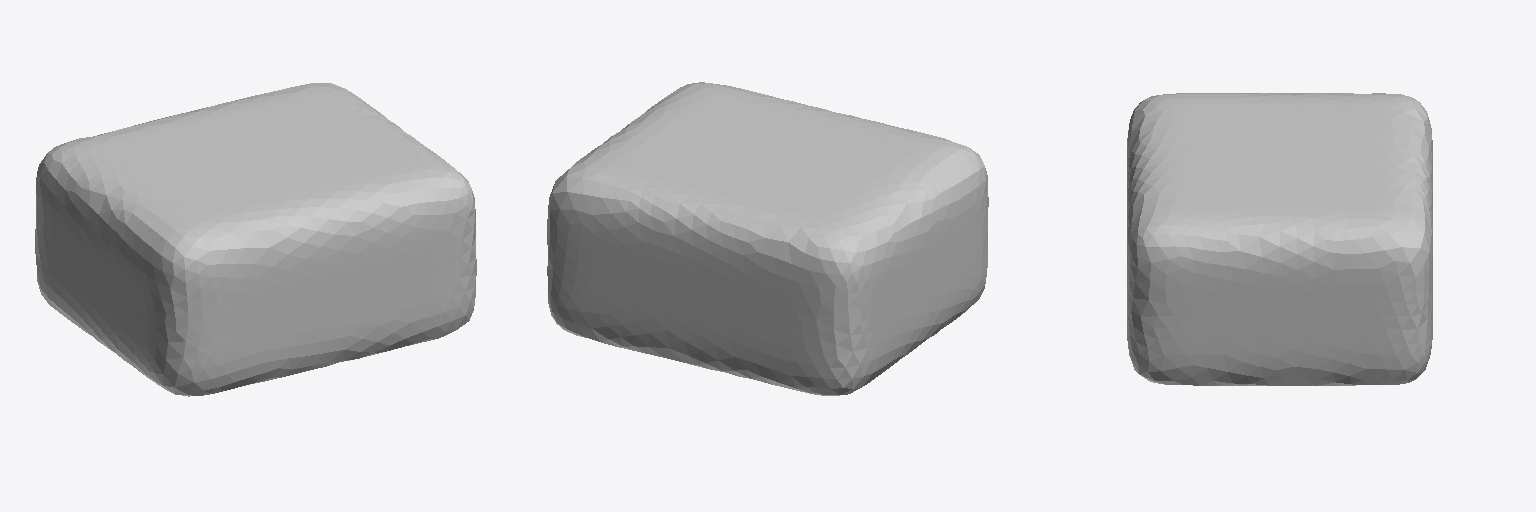
File: bag_thin_handle_dense.obj
The picture shows the model from 3 angles: view 1: azimuth 30°, elevation 25°; view 2: azimuth 150°, elevation 25°; view 3: azimuth 270°, elevation 25°; orthographic projection.
Visible parts, largest first — view 1: mmGroup0; view 2: mmGroup0; view 3: mmGroup0.
Part boxes in pixels (x1,y1,x2,y2): mmGroup0: (35,83,476,396); mmGroup0: (547,82,988,395); mmGroup0: (1127,93,1432,385).
Size of the model in its own units: 0.5 by 0.3 by 0.42.